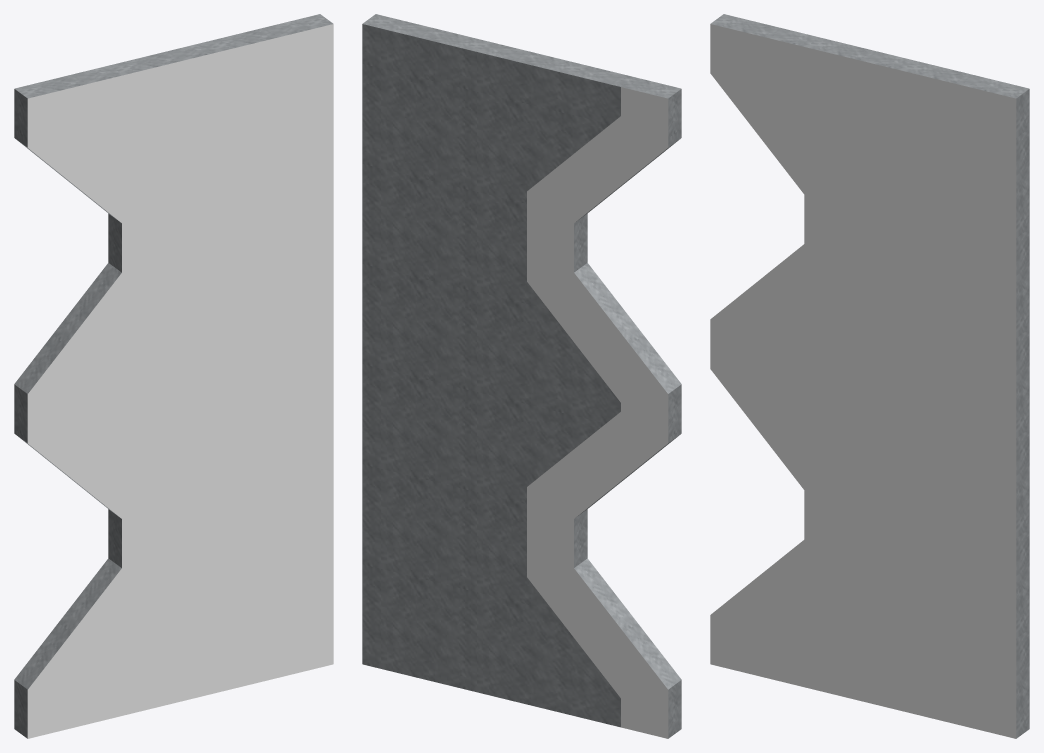
Rendered from door_left.obj.
3 renders of one model, left to right at view 1: azimuth 30°, elevation 25°; view 2: azimuth 150°, elevation 25°; view 3: azimuth 330°, elevation 25°, orthographic.
Parts seen in each view (by area): view 1: group_0.001_ID16, group_0_ID3; view 2: group_0_ID3, group_0.002_ID24; view 3: group_0.001_ID16, group_0_ID3.
Boxes of the visible parts, box(x1,y1,x2,y2) form: group_0.001_ID16: box(27, 24, 333, 738); group_0_ID3: box(14, 14, 333, 738); group_0_ID3: box(362, 14, 681, 738); group_0.002_ID24: box(527, 87, 668, 738); group_0.001_ID16: box(710, 24, 1016, 738); group_0_ID3: box(710, 14, 1029, 738).
Size of the model in its own units: 2.45 by 4.9 by 0.1886.
